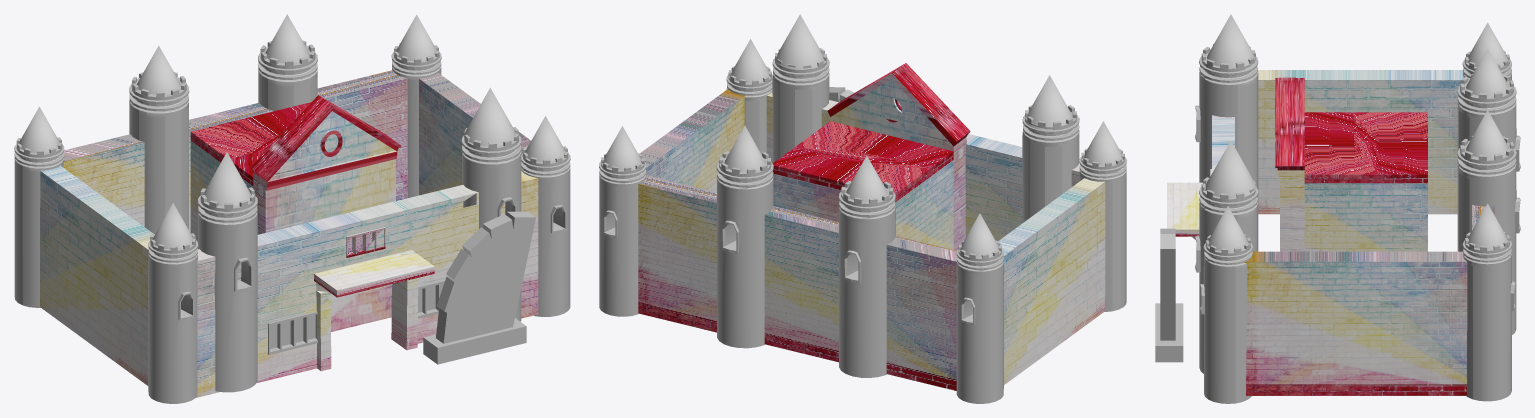
The model's file is castal.fbx.
3 views of the same model, side by side, from view 1: azimuth 30°, elevation 25°; view 2: azimuth 150°, elevation 25°; view 3: azimuth 270°, elevation 25° (orthographic). The views are drawn at different scales.
Visible parts, largest first — view 1: castal1; view 2: castal1; view 3: castal1.
Boxes of the visible parts, x1=… form: castal1: x1=14, y1=14, x2=570, y2=403; castal1: x1=599, y1=14, x2=1126, y2=403; castal1: x1=1155, y1=14, x2=1520, y2=403.
Size of the model in its own units: 114 by 59.91 by 87.19.
